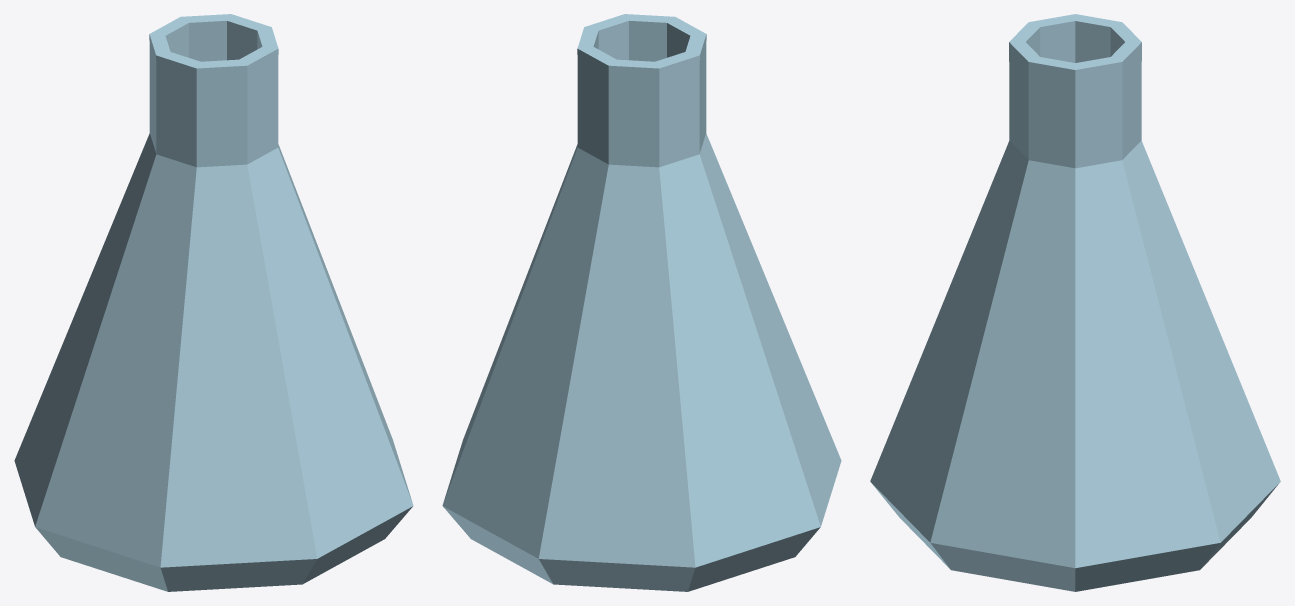
File: SM_Flask_C.fbx
The picture shows the model from 3 angles, left to right: view 1: azimuth 30°, elevation 25°; view 2: azimuth 150°, elevation 25°; view 3: azimuth 270°, elevation 25°; orthographic projection.
Visible parts, largest first — view 1: SM_Flask_C; view 2: SM_Flask_C; view 3: SM_Flask_C.
Part boxes in pixels (bbox=[...]): SM_Flask_C: bbox=[14, 14, 413, 591]; SM_Flask_C: bbox=[442, 14, 841, 591]; SM_Flask_C: bbox=[870, 14, 1280, 591].
Size of the model in its own units: 12.66 by 16.25 by 12.66.
